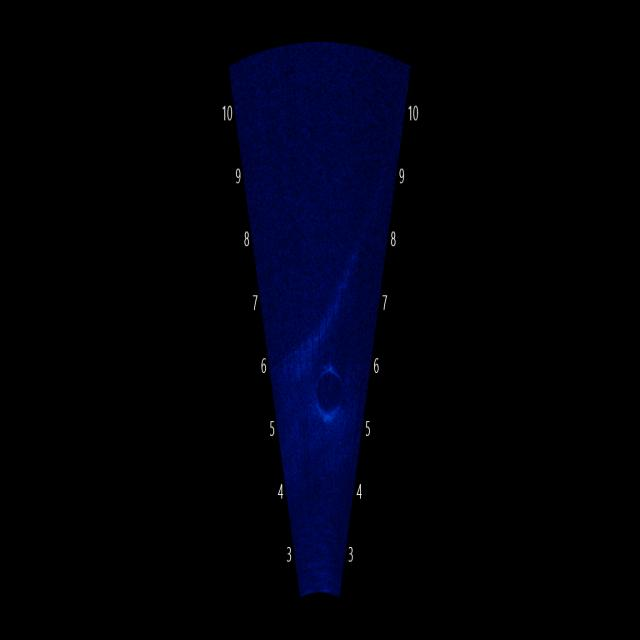circle: (299, 352, 350, 442)
